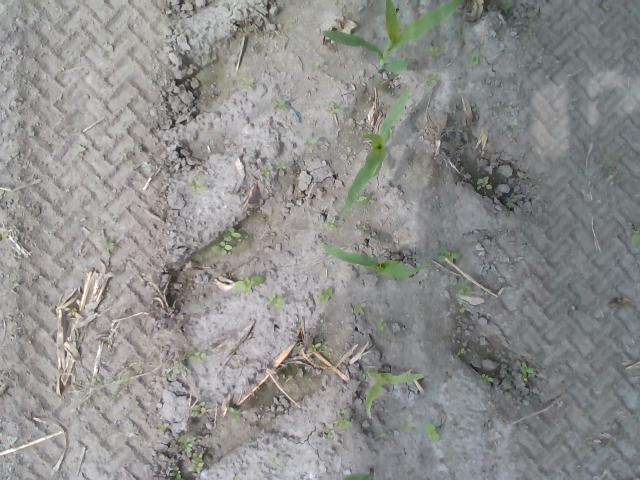Maize: (318, 2, 464, 74), (338, 86, 411, 212), (321, 237, 428, 282), (359, 364, 427, 422), (342, 466, 377, 480)
Weeds: (210, 226, 243, 256), (236, 272, 263, 292), (437, 246, 461, 266), (514, 360, 536, 380), (261, 162, 289, 175), (425, 422, 443, 442), (188, 453, 205, 473), (178, 436, 196, 453), (318, 286, 334, 305), (238, 76, 256, 92), (475, 176, 492, 192), (190, 175, 207, 190), (102, 239, 118, 254), (424, 44, 440, 58), (268, 294, 284, 308), (191, 402, 208, 415), (272, 100, 290, 112), (229, 406, 241, 424), (352, 302, 367, 316), (459, 284, 474, 298), (306, 341, 322, 354), (192, 352, 208, 364), (336, 418, 352, 430), (154, 420, 170, 432), (480, 373, 494, 385), (325, 102, 339, 114), (173, 465, 183, 480), (322, 429, 334, 440), (374, 318, 386, 329), (324, 222, 338, 230), (632, 228, 640, 242), (470, 54, 480, 64)
